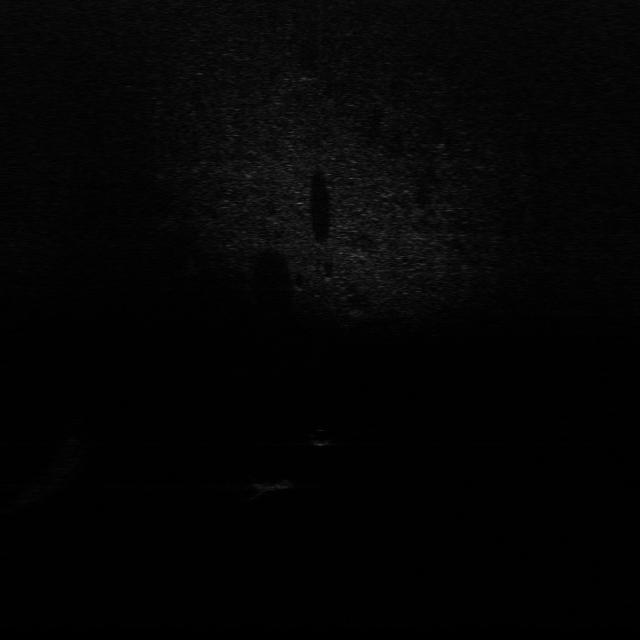ball: (306, 426, 338, 448)
square cage: (250, 473, 310, 493)
